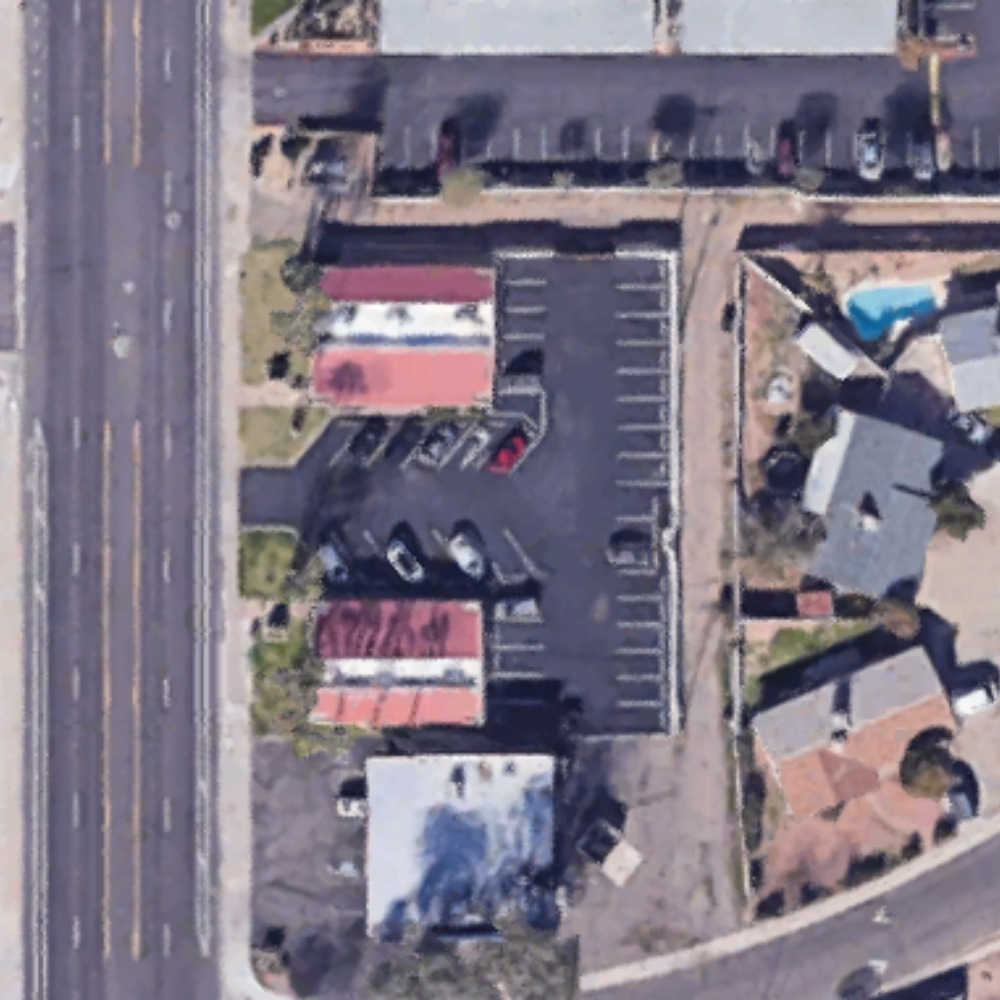parking: (320, 245, 670, 735)
